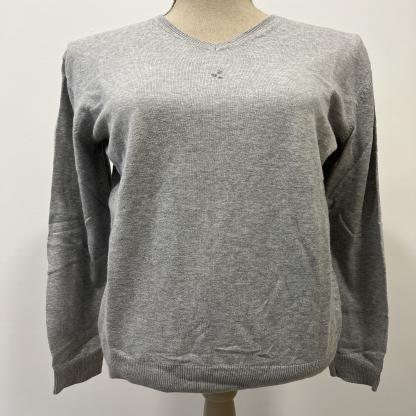stain: (215, 69, 224, 75), (210, 73, 218, 78), (216, 76, 224, 80)
